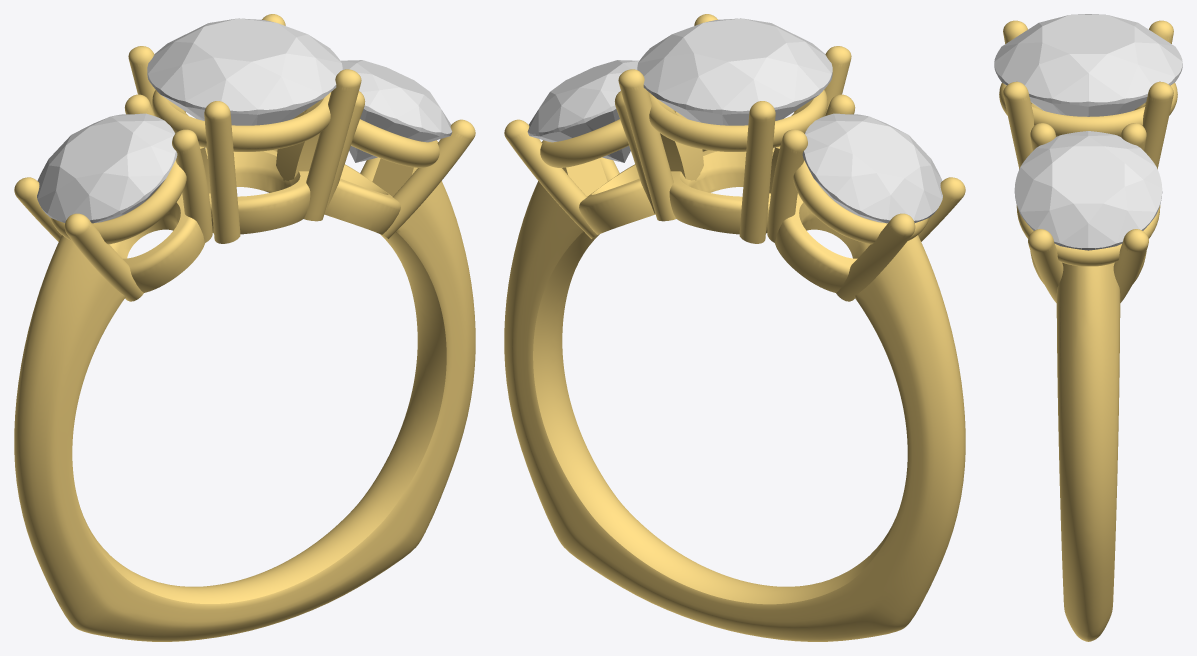
File: Paula1.5eng_blender.glb
3 views of the same model, side by side, from view 1: azimuth 30°, elevation 25°; view 2: azimuth 150°, elevation 25°; view 3: azimuth 270°, elevation 25° (orthographic). The views are drawn at different scales.
Visible parts, largest first — view 1: V2 Paula YG for 3d model, V2 Paula dia for 3d model.002, V2 Paula dia for 3d model.001, V2 Paula dia for 3d model; view 2: V2 Paula YG for 3d model, V2 Paula dia for 3d model.002, V2 Paula dia for 3d model.001, V2 Paula dia for 3d model; view 3: V2 Paula YG for 3d model, V2 Paula dia for 3d model.002, V2 Paula dia for 3d model.
Boxes of the visible parts, x1,y1,x2,y2 form: V2 Paula YG for 3d model: [14, 14, 475, 641]; V2 Paula dia for 3d model.002: [147, 18, 342, 125]; V2 Paula dia for 3d model.001: [37, 113, 177, 223]; V2 Paula dia for 3d model: [341, 60, 452, 162]; V2 Paula YG for 3d model: [504, 14, 965, 641]; V2 Paula dia for 3d model.002: [637, 18, 832, 125]; V2 Paula dia for 3d model.001: [802, 113, 942, 223]; V2 Paula dia for 3d model: [527, 60, 638, 162]; V2 Paula YG for 3d model: [999, 20, 1177, 641]; V2 Paula dia for 3d model.002: [994, 14, 1182, 116]; V2 Paula dia for 3d model: [1014, 131, 1162, 250].
Size of the model in its own units: 19.9 by 24.64 by 7.4.
